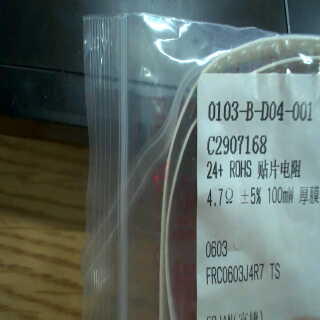4.7R: (204, 187, 235, 208)
